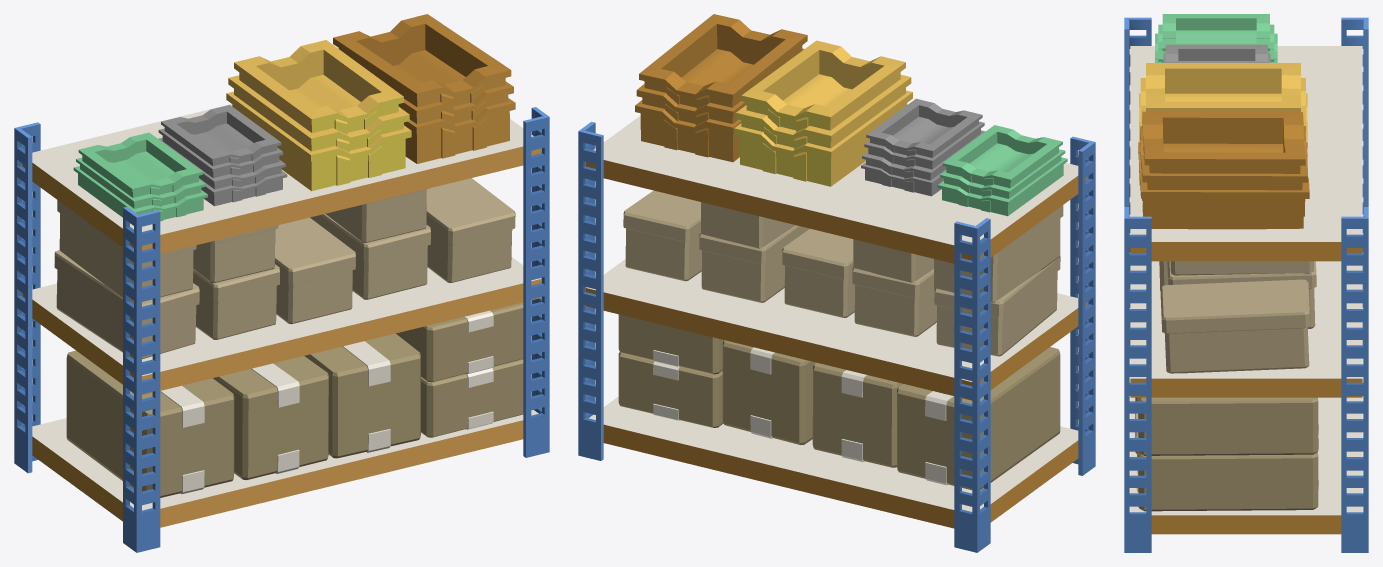
File: Factory_shelf_02.FBX
3 renders of one model, left to right at view 1: azimuth 30°, elevation 25°; view 2: azimuth 150°, elevation 25°; view 3: azimuth 270°, elevation 25°, orthographic. The views are drawn at different scales.
Visible parts, largest first — view 1: Plane027; view 2: Plane027; view 3: Plane027.
Boxes of the visible parts, x1=… form: Plane027: x1=14, y1=14, x2=549, y2=552; Plane027: x1=578, y1=14, x2=1095, y2=552; Plane027: x1=1124, y1=14, x2=1368, y2=552.
Bounding box in the file's own units: 68.55 × 35.21 × 60.62.
